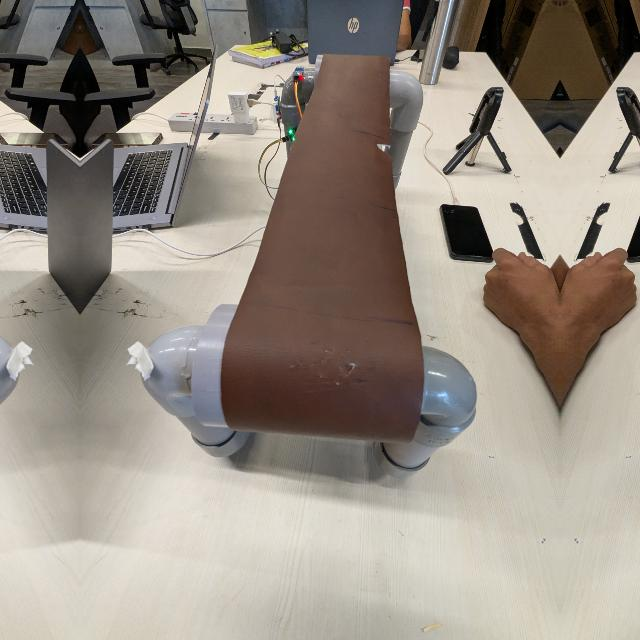belt_crack: (273, 333, 380, 409)
edge_damage: (370, 135, 395, 157)
